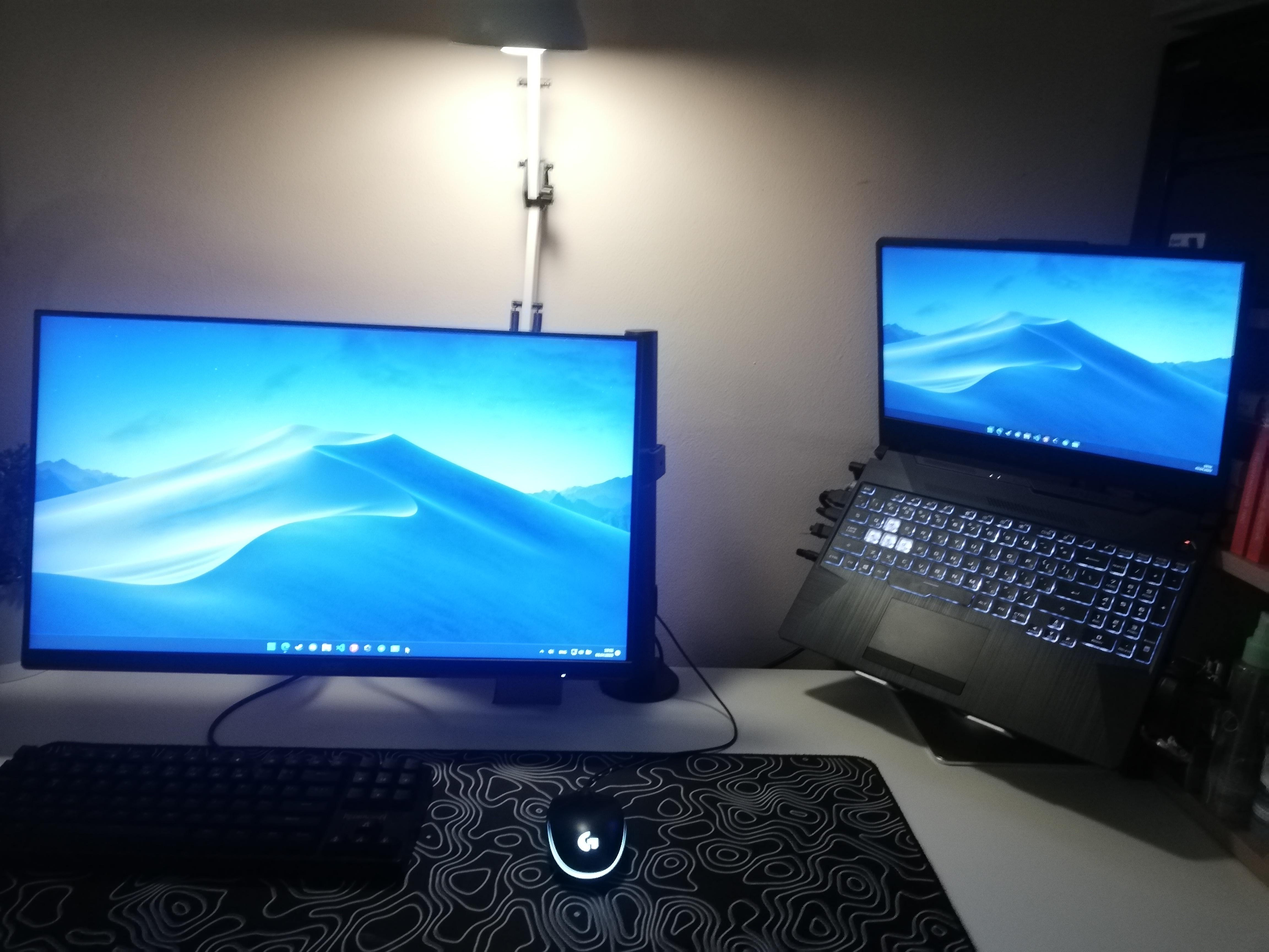monitor: (869, 231, 1264, 514)
